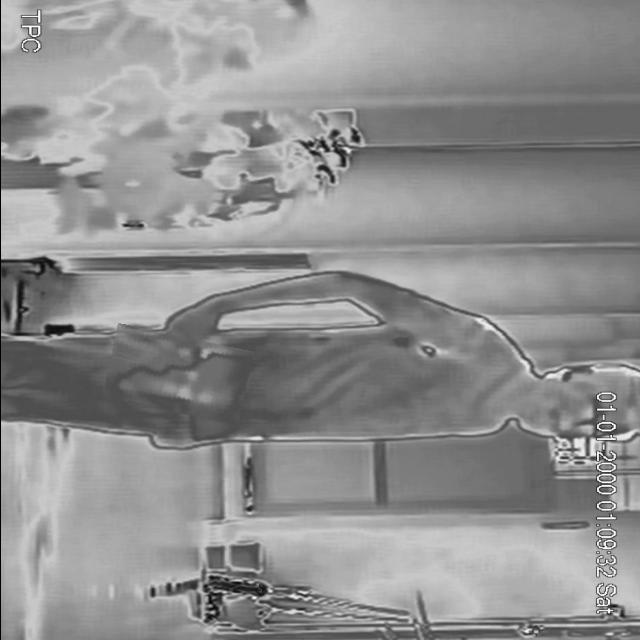Weapon: (105, 330, 250, 420)
